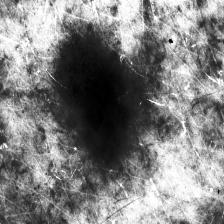Benign Marking or Mole: (61, 37, 129, 164)
